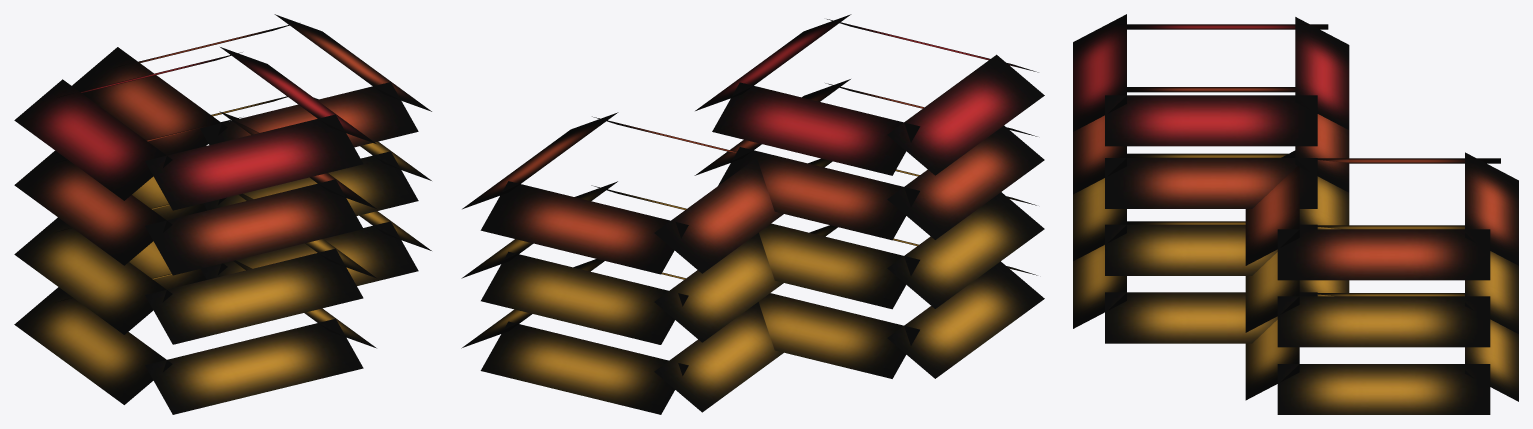
The model's file is buildlight04.FBX.
3 renders of one model, left to right at view 1: azimuth 30°, elevation 25°; view 2: azimuth 150°, elevation 25°; view 3: azimuth 270°, elevation 25°, orthographic. The views are drawn at different scales.
Visible parts, largest first — view 1: buildlight04; view 2: buildlight04; view 3: buildlight04.
Part boxes in pixels (x1,y1,x2,y2): buildlight04: (14,14,431,414); buildlight04: (461,14,1044,414); buildlight04: (1073,14,1518,414).
Bounding box in the file's own units: 1.14 × 1.16 × 0.6658.
1 material, 1 textured.
